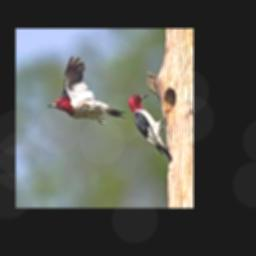Woodpecker: (46, 55, 126, 123), (127, 93, 172, 162)
